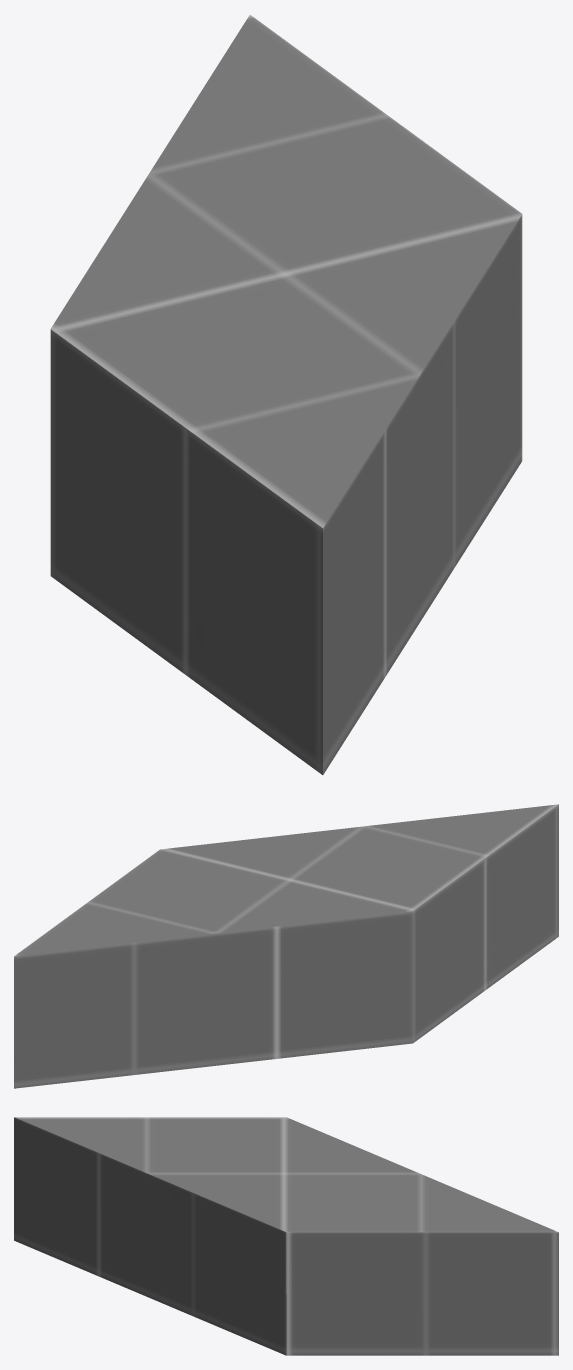
Rendered from BlockAngle_A.fbx.
3 renders of one model, top to bottom at view 1: azimuth 30°, elevation 25°; view 2: azimuth 150°, elevation 25°; view 3: azimuth 270°, elevation 25°, orthographic. The views are drawn at different scales.
Visible parts, largest first — view 1: Plateforme_C1; view 2: Plateforme_C1; view 3: Plateforme_C1.
Part boxes in pixels (bbox=[...]): Plateforme_C1: bbox=[50, 15, 522, 774]; Plateforme_C1: bbox=[14, 804, 558, 1088]; Plateforme_C1: bbox=[14, 1117, 558, 1355].
Bounding box in the file's own units: 8 × 16 × 4.
1 material, 1 textured.
